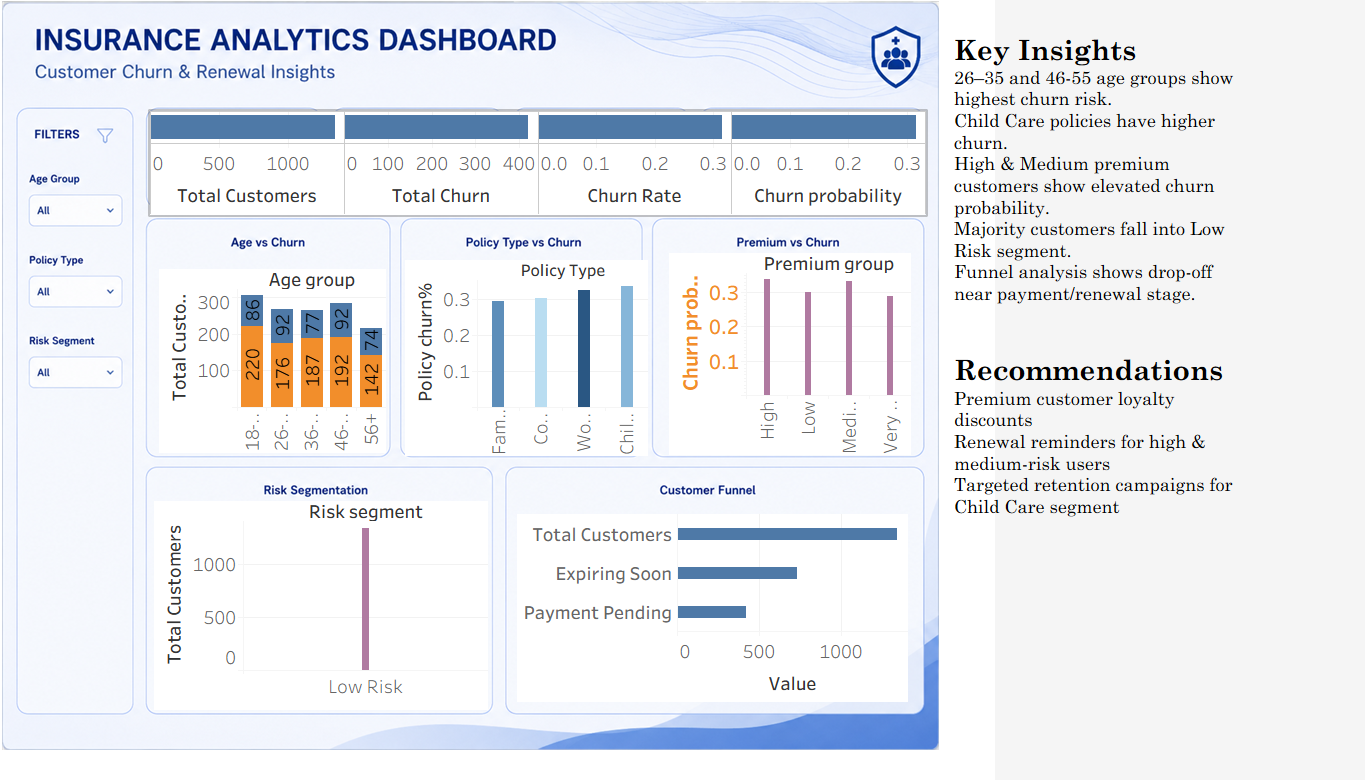

The dashboard page shown, as its layout file describes it:
{"tool":"tableau","page":{"name":"Star Health Insurance Renewal Funnel & Churn Prediction Dashboard ","canvas":[1000,800],"ordinal":0},"visuals":[{"type":"image","param":"C:/Users/akank/Downloads/Star_Health_Insurance_Dashboard.png","box":[7,4,937,754]},{"type":"worksheet","title":"KPI","mark":"Automatic","cols":["Calculation_1814194372976640","Calculation_1814194378448902","Calculation_1814194380189703","Calculation_1814194386735112"],"box":[155,114,776,104]},{"type":"worksheet","title":"Premium vs Churn","mark":"Bar","rows":["Calculation_1814194386735112"],"cols":["Premium_group"],"box":[674,256,242,202]},{"type":"worksheet","title":"Policy_Type vs Churn","mark":"Bar","rows":["Calculation_1814194392719370"],"cols":["policy_type"],"box":[410,263,243,197]},{"type":"worksheet","title":" Age vs Churn","mark":"Automatic","rows":["Calculation_1814194372976640"],"cols":["Age_group"],"box":[164,272,227,184]},{"type":"worksheet","title":"Risk Segmentation","mark":"Bar","rows":["Calculation_1814194372976640"],"cols":["Calculation_1814194395762699"],"box":[159,504,334,209]},{"type":"worksheet","title":"Customer Funnel","mark":"Automatic","box":[522,517,391,188]}]}

Visuals, with their boxes on the page's 1000x800 design canvas (x1, y1, x2, y2). These are canvas units, not pixel positions in the 1365x780 screenshot, which may show the page scaled, cropped or inside an application window:
image: region(7, 4, 944, 758)
"KPI" worksheet: region(155, 114, 931, 218)
"Premium vs Churn" worksheet (Bar marks): region(674, 256, 916, 458)
"Policy_Type vs Churn" worksheet (Bar marks): region(410, 263, 653, 460)
" Age vs Churn" worksheet: region(164, 272, 391, 456)
"Risk Segmentation" worksheet (Bar marks): region(159, 504, 493, 713)
"Customer Funnel" worksheet: region(522, 517, 913, 705)
